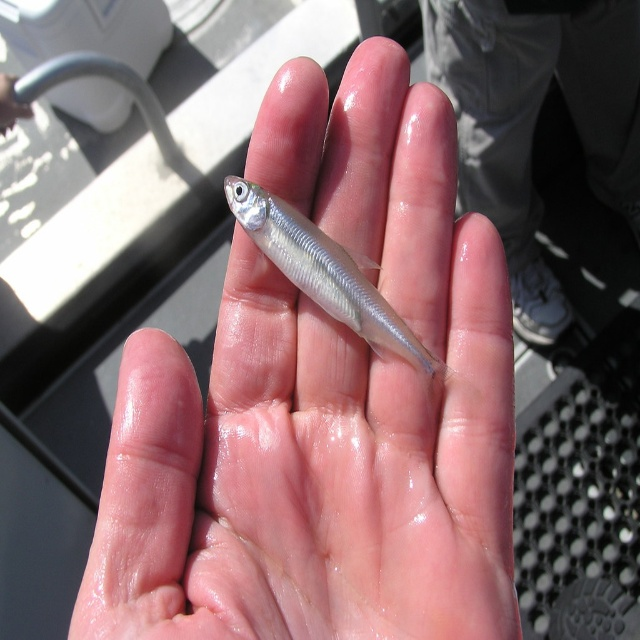Fish: (224, 175, 482, 431)
